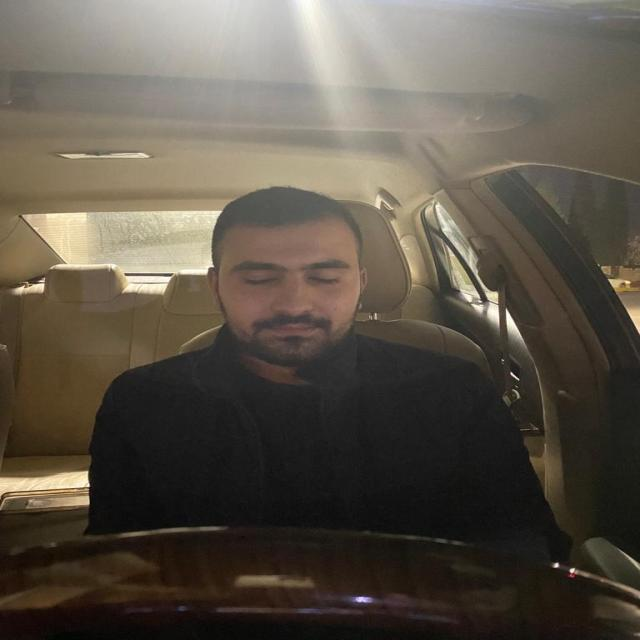drowsy: (206, 182, 373, 374)
